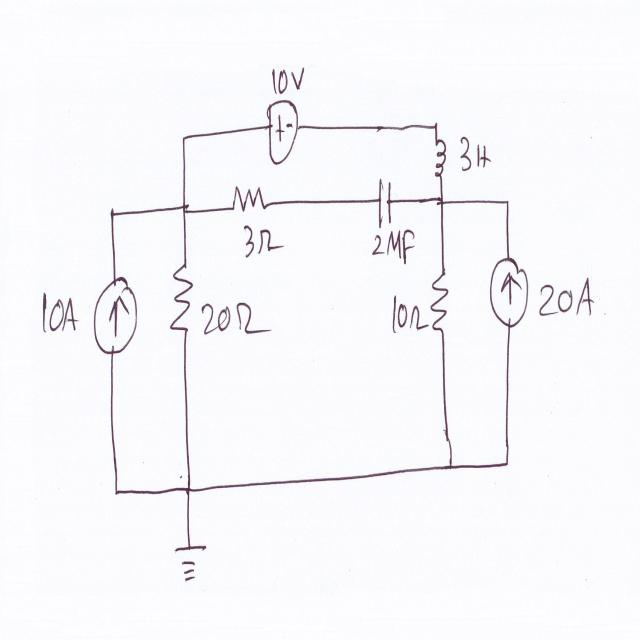capacitor: (376, 172, 396, 228)
current_source: (91, 270, 139, 362), (486, 250, 530, 332)
ground: (173, 536, 209, 591)
inductor: (428, 134, 449, 186)
resistor: (167, 256, 197, 343), (427, 263, 451, 339), (228, 183, 270, 220)
voltage_source: (264, 100, 302, 168)
